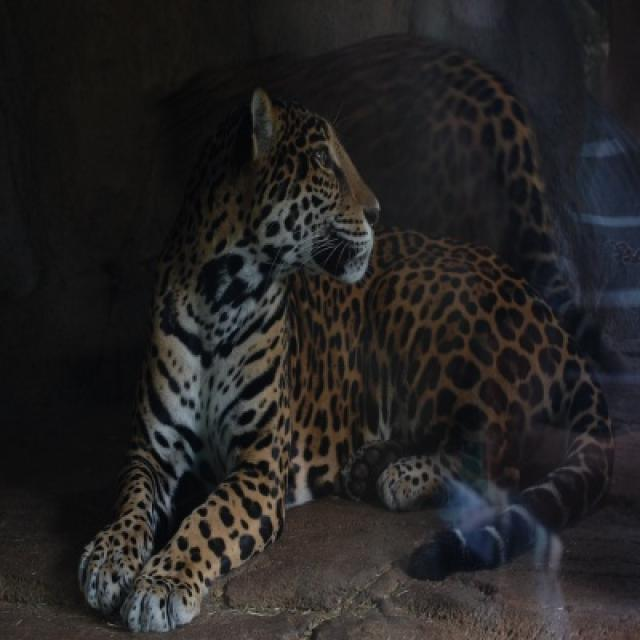Jaguar: (78, 88, 613, 634)
